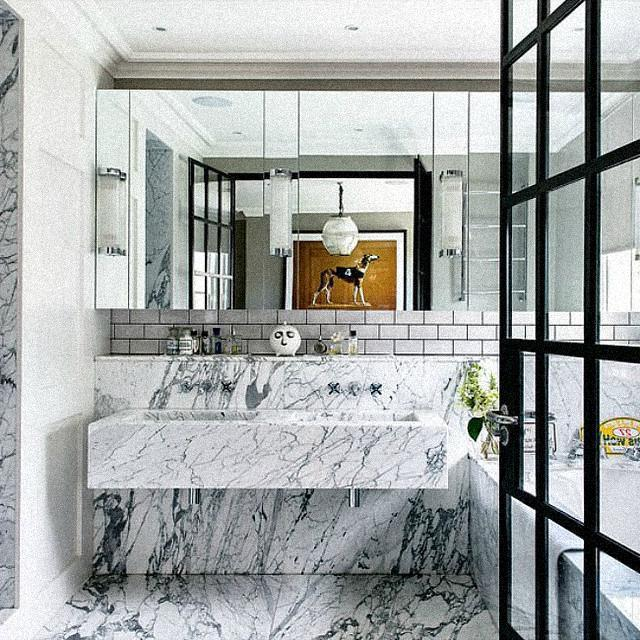Lavamanos: (87, 377, 273, 491), (273, 377, 436, 493)
